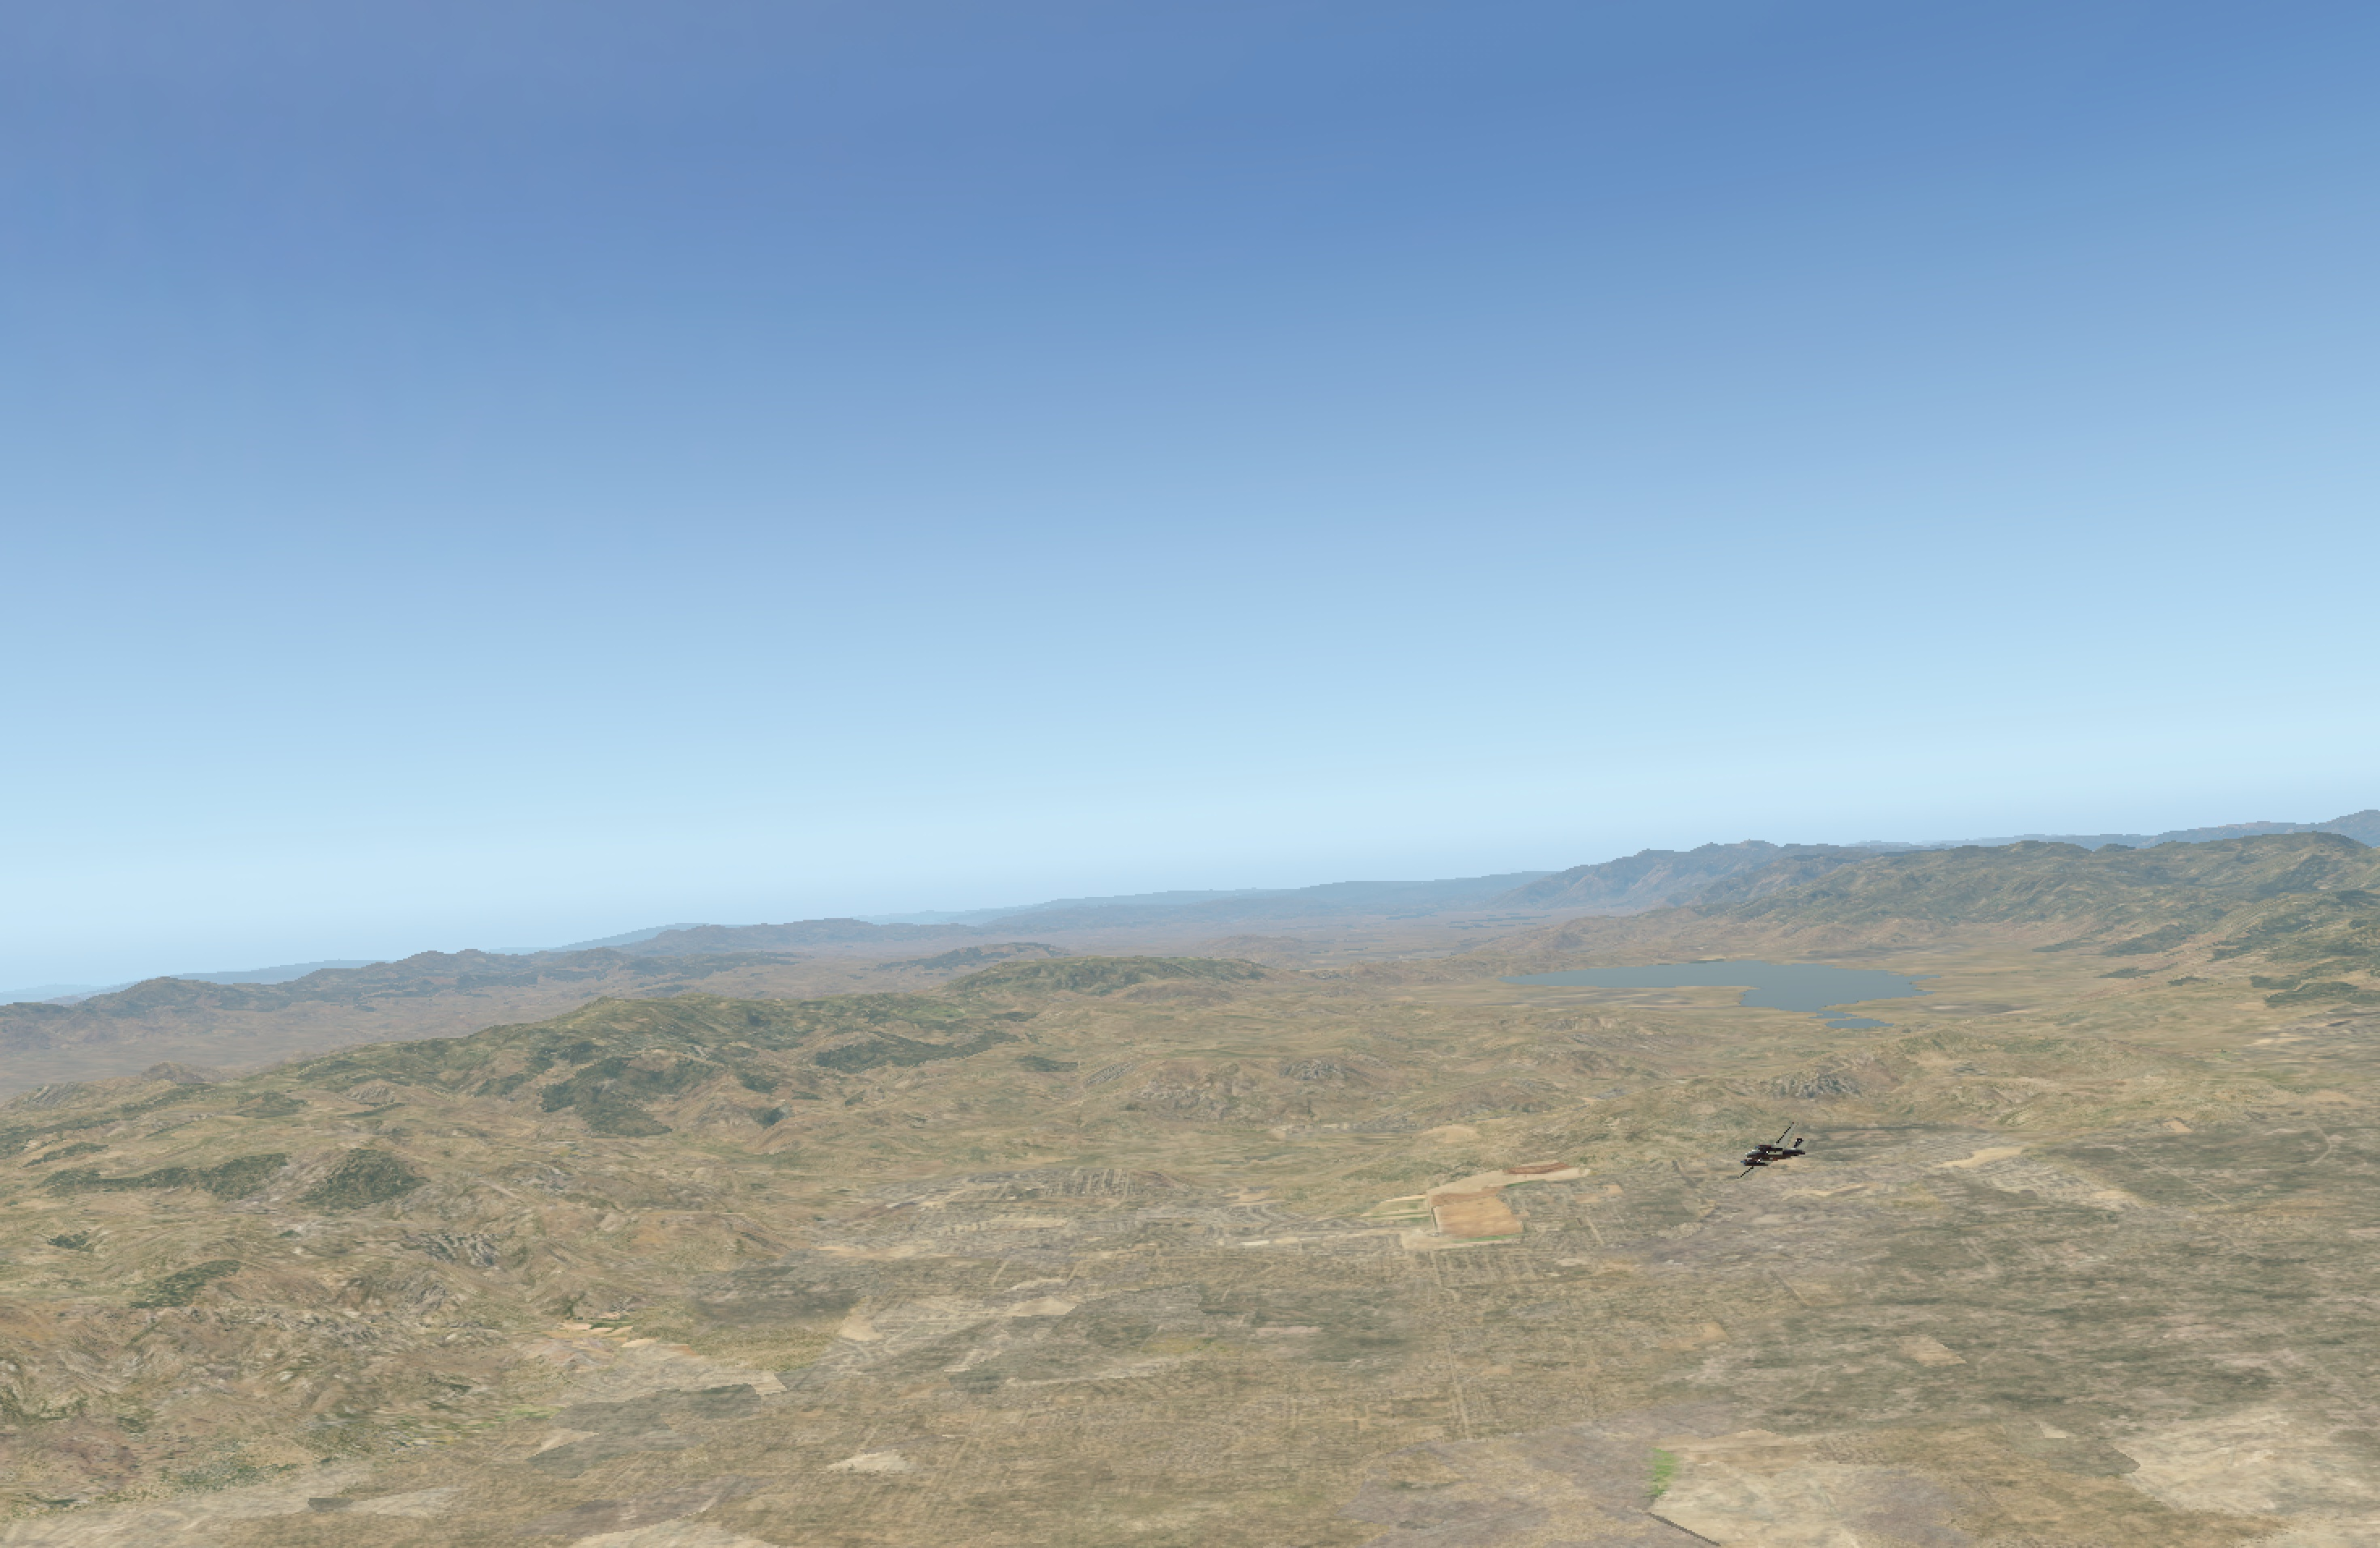aircraft: (1714, 1137, 1821, 1178)
